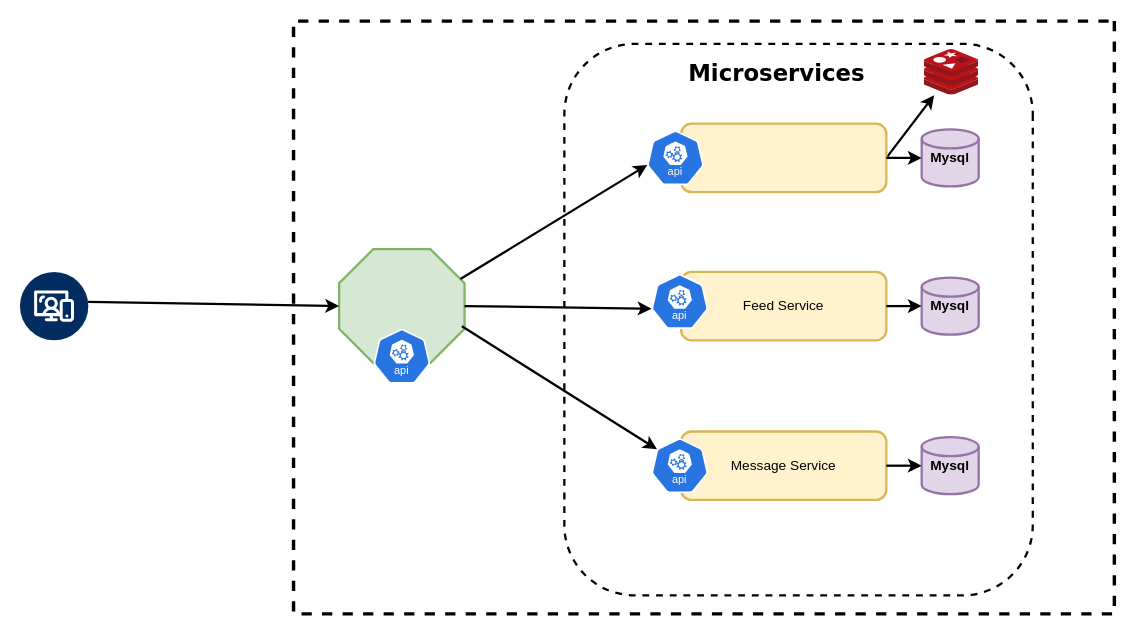
This 1135x635 diagram has some shape labels left out. Each missing label, with the box of its shape:
API Gatway: (337, 247, 465, 364)
Authentication Service: (679, 122, 887, 193)
